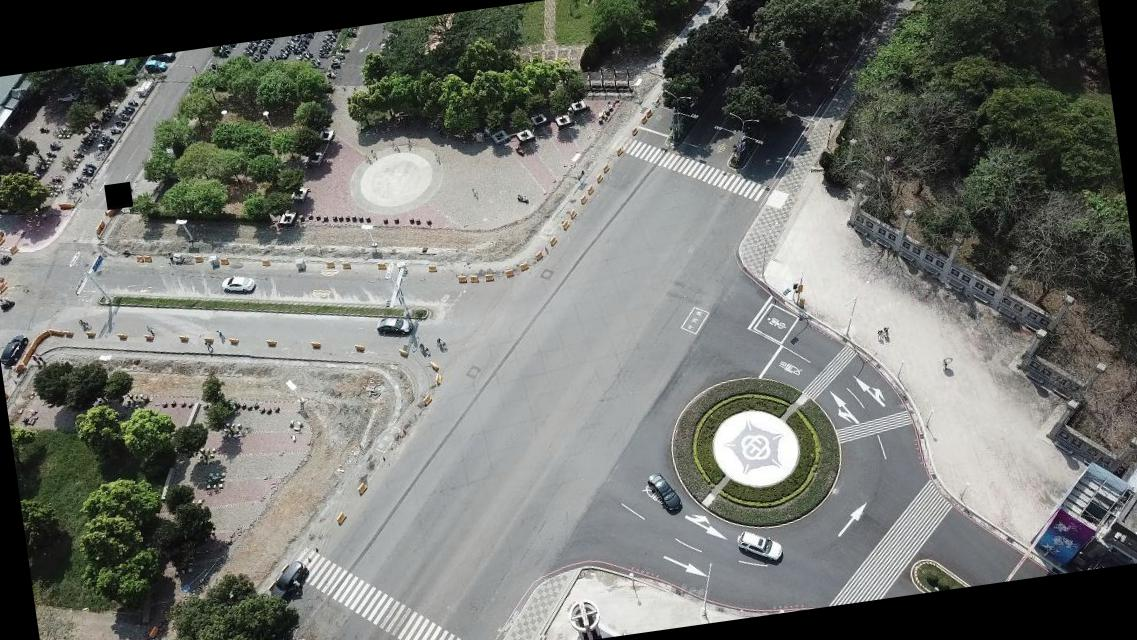vehicle: (266, 559, 310, 603), (737, 526, 784, 566), (645, 469, 683, 516), (0, 332, 33, 368), (374, 313, 412, 337), (220, 272, 255, 296), (143, 56, 168, 74)
